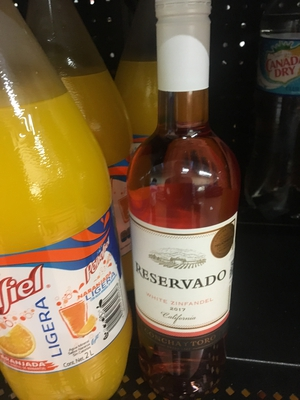reservado white zinfandel: (120, 1, 240, 377)
